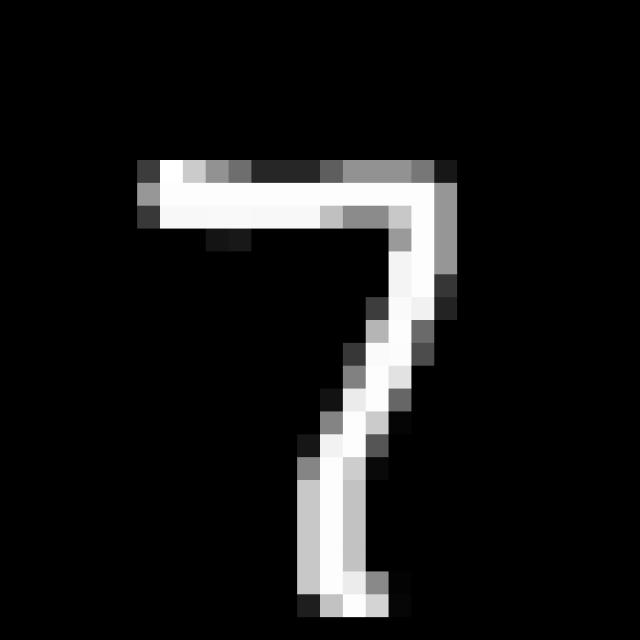seven -7-: (128, 146, 468, 632)
